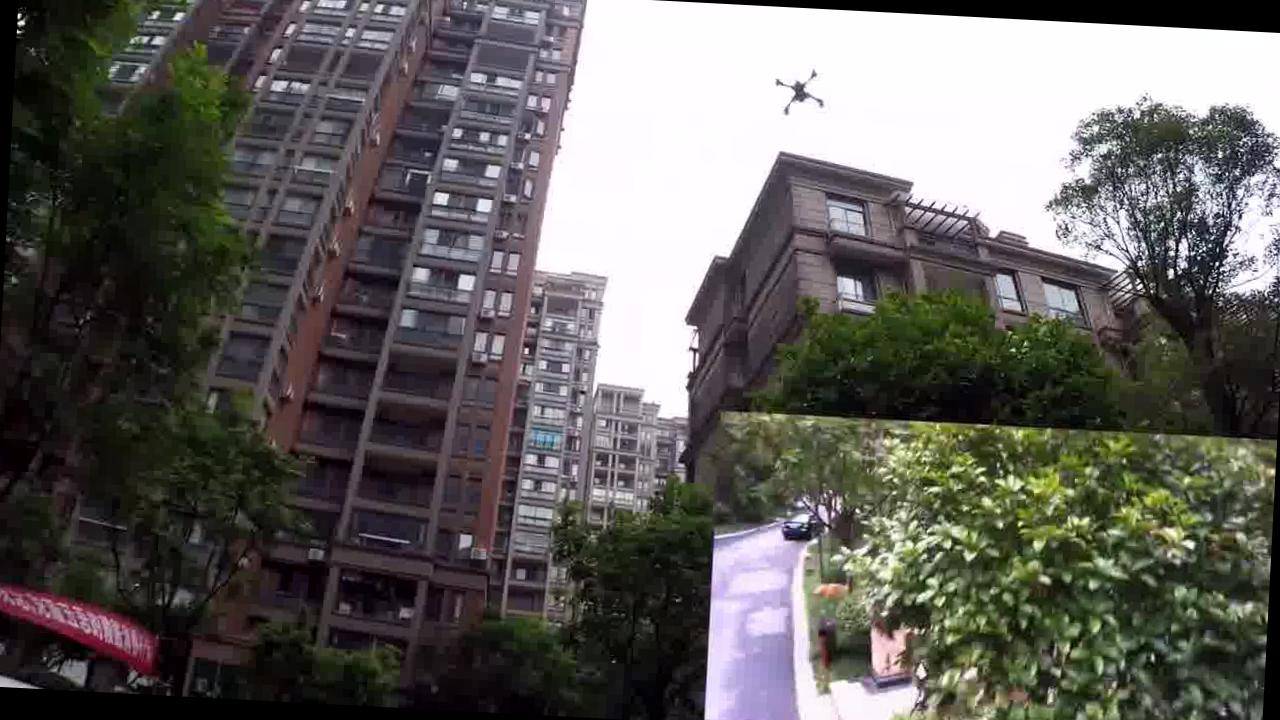drone: (744, 50, 839, 124)
